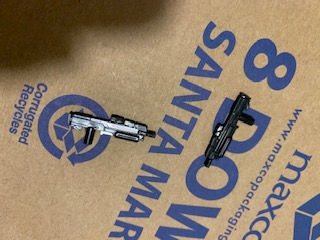rifle: (65, 106, 158, 155), (200, 88, 256, 168)
